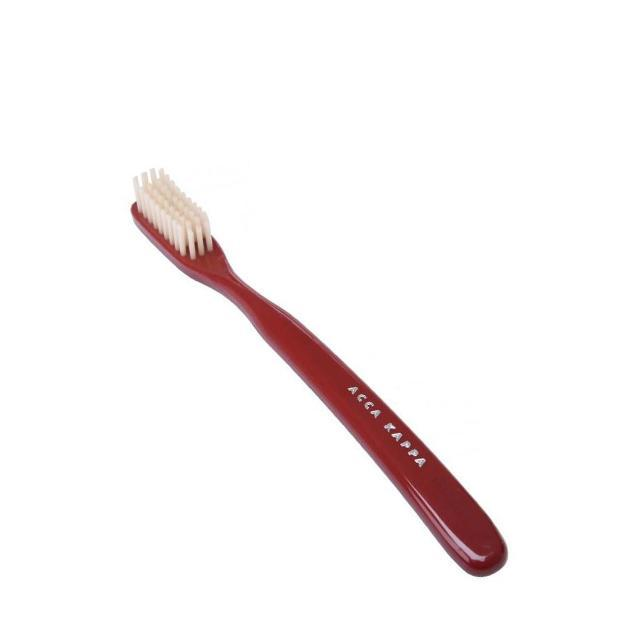toothbrush: (121, 152, 235, 304)
